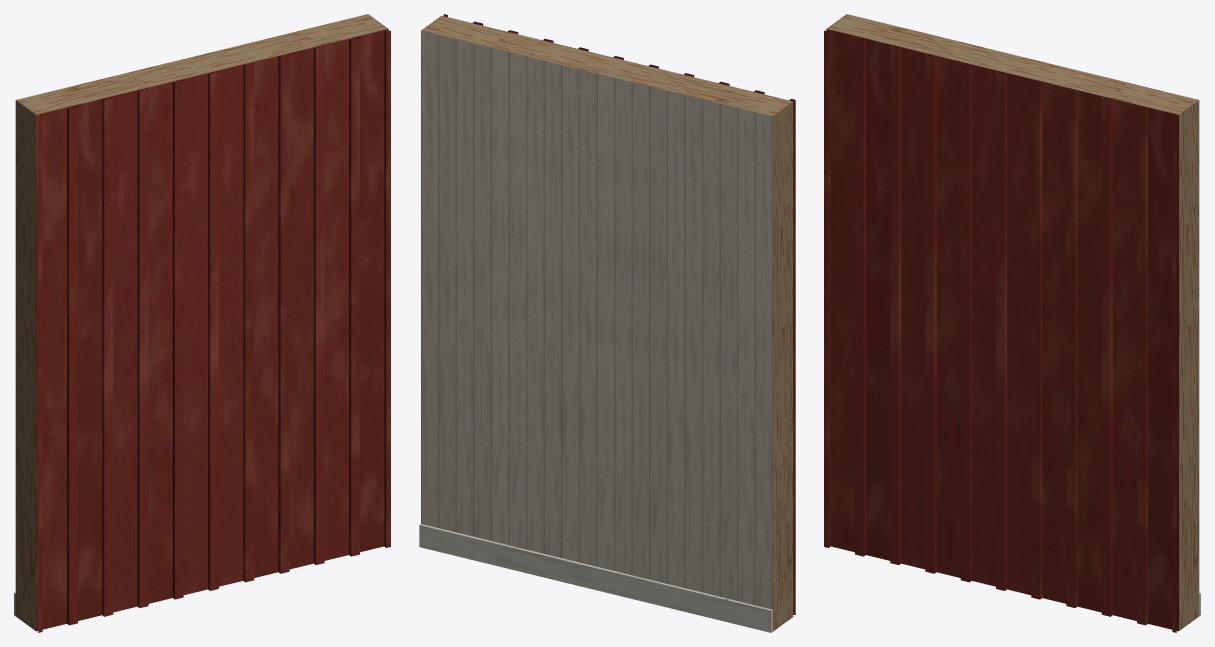
Rendered from nordic-house-wall.glb.
3 views of the same model, side by side, from view 1: azimuth 30°, elevation 25°; view 2: azimuth 150°, elevation 25°; view 3: azimuth 330°, elevation 25° (orthographic).
Parts seen in each view (by area): view 1: wall; view 2: wall; view 3: wall.
Boxes of the visible parts, x1,y1,x2,y2 form: wall: (14,14,390,632); wall: (419,14,795,632); wall: (824,14,1200,632).
Size of the model in its own units: 2 by 2.8 by 0.2379.
Materials: 1 (1 with a texture image).
